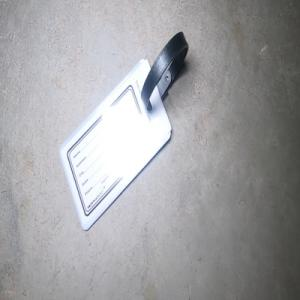LuggageTag: (57, 29, 189, 233)
